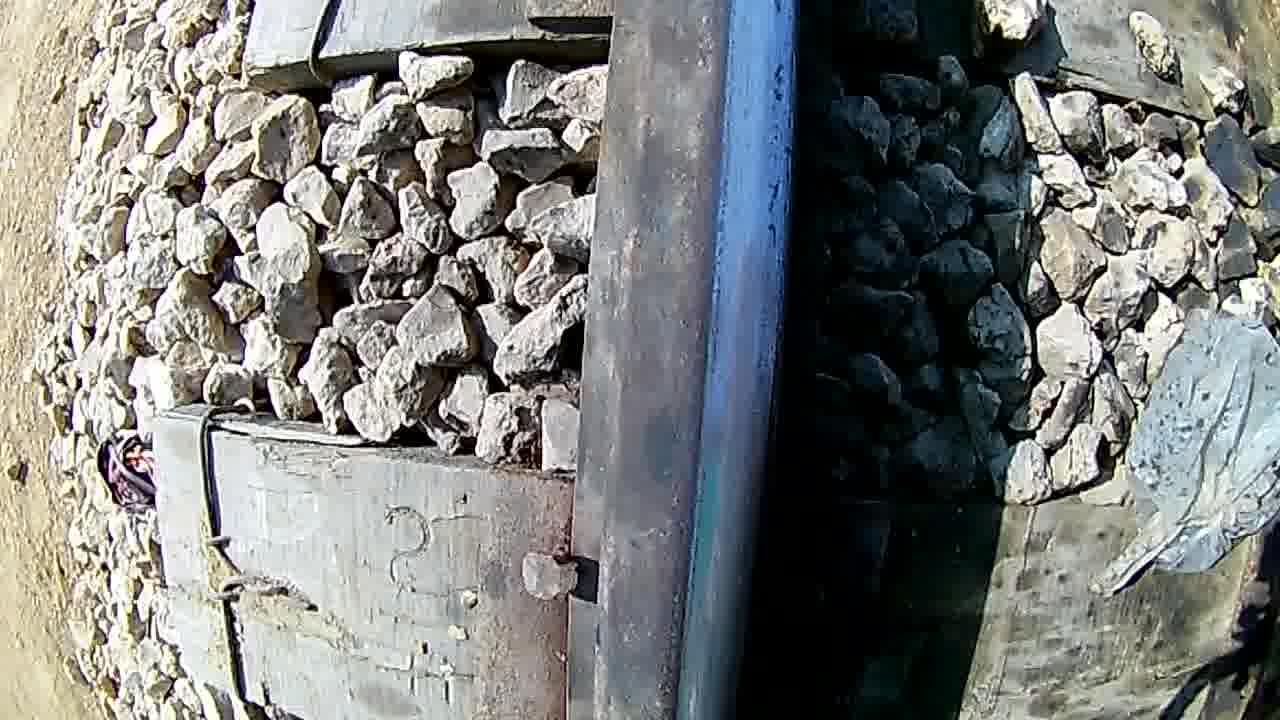crack: (618, 0, 797, 720)
